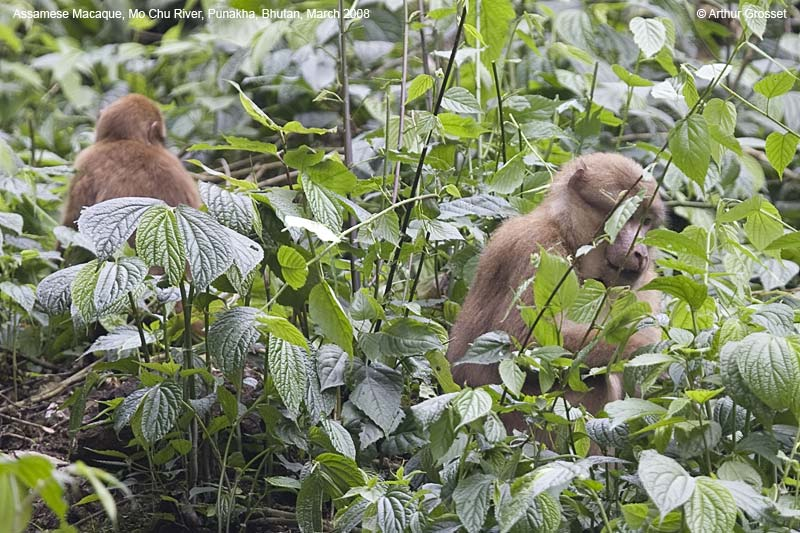monkey: (394, 139, 702, 452), (58, 89, 239, 297)
